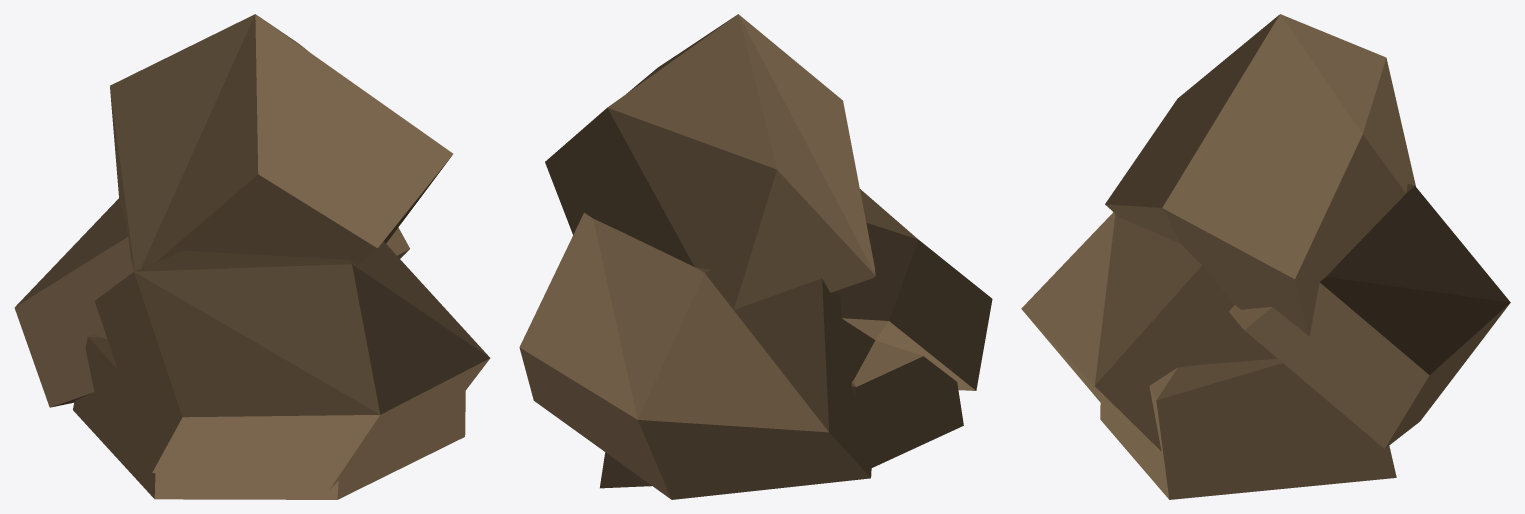
File: Mude stone.fbx
The picture shows the model from 3 angles, left to right: view 1: azimuth 30°, elevation 25°; view 2: azimuth 150°, elevation 25°; view 3: azimuth 270°, elevation 25°; orthographic projection. The views are drawn at different scales.
Visible parts, largest first — view 1: SM_Env_Dirt_Rocks_005; view 2: SM_Env_Dirt_Rocks_005; view 3: SM_Env_Dirt_Rocks_005.
Part boxes in pixels (x1,y1,x2,y2): SM_Env_Dirt_Rocks_005: (14, 14, 490, 499); SM_Env_Dirt_Rocks_005: (519, 14, 992, 499); SM_Env_Dirt_Rocks_005: (1021, 14, 1510, 499).
Size of the model in its own units: 58.87 by 70.44 by 73.08.
Materials: 1 (1 with a texture image).
